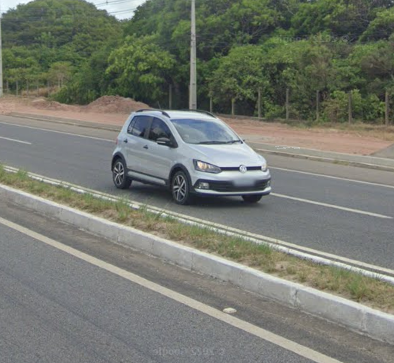car: (110, 98, 277, 205)
